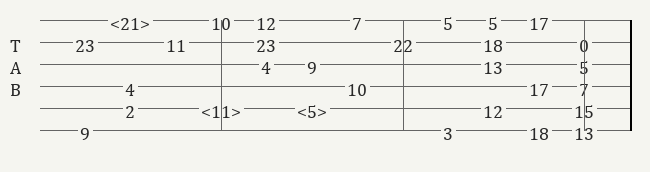0: (579, 34, 593, 50)
10: (211, 12, 235, 28), (347, 78, 371, 94)
11: (166, 34, 190, 50)
12: (256, 12, 280, 28), (483, 100, 507, 116)
13: (483, 56, 507, 72), (574, 122, 598, 138)
15: (574, 100, 598, 117)
17: (529, 12, 553, 29), (529, 78, 553, 95)
18: (483, 34, 507, 50), (529, 122, 553, 138)
2: (125, 100, 139, 116)
22: (393, 34, 417, 50)
23: (75, 34, 99, 50), (256, 34, 280, 50)
3: (443, 122, 457, 138)
4: (125, 78, 139, 94), (261, 56, 275, 72)
5: (443, 12, 457, 29), (488, 12, 502, 29), (579, 56, 593, 73)
7: (352, 12, 366, 29), (579, 78, 593, 95)
9: (80, 122, 94, 138), (307, 56, 321, 72)
harmonic: (110, 12, 154, 28), (201, 100, 245, 116), (297, 100, 331, 117)
